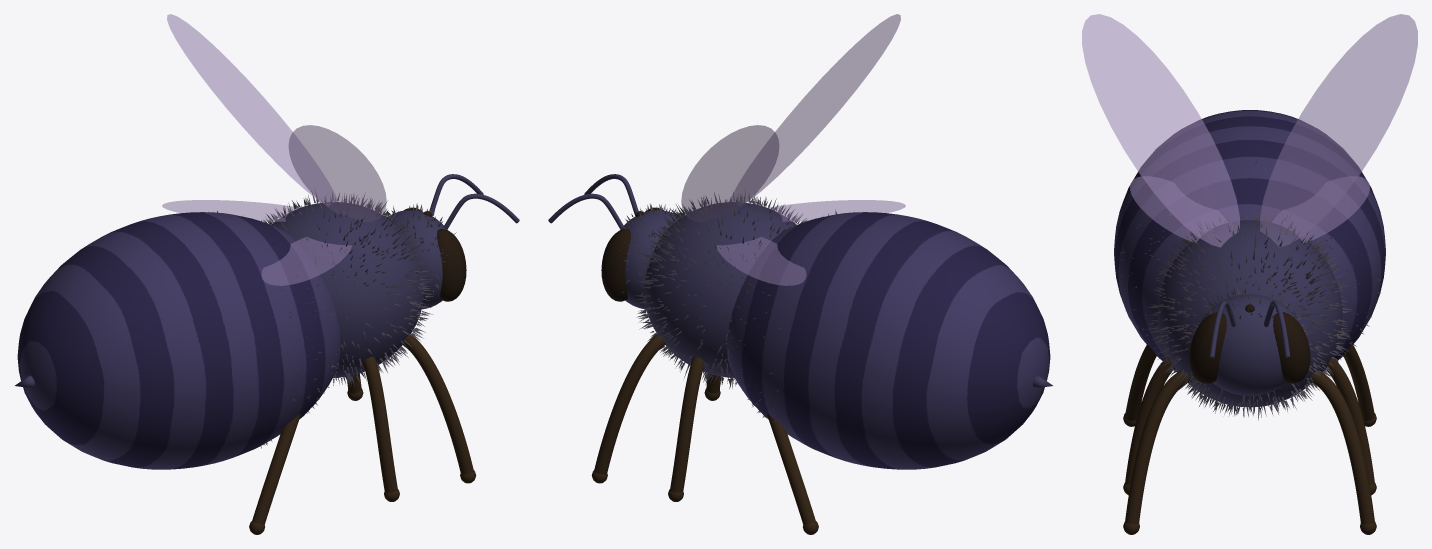
Rendered from bee-hero-xylocopa.glb.
3 views of the same model, side by side, from view 1: azimuth 30°, elevation 25°; view 2: azimuth 150°, elevation 25°; view 3: azimuth 270°, elevation 25° (orthographic). The views are drawn at different scales.
Parts seen in each view (by area): view 1: abdomen, thorax, foreWingL, foreWingR, fuzz, hindWingR, head, foreLegR, midLegR, hindWingL, compoundEyeR, hindLegR; view 2: abdomen, thorax, foreWingR, foreWingL, fuzz, hindWingL, head, foreLegL, midLegL, hindWingR, compoundEyeL, hindLegL; view 3: abdomen, foreWingL, foreWingR, thorax, fuzz, head, hindWingL, hindWingR, foreLegL, foreLegR, compoundEyeR, compoundEyeL (+6 smaller).
Boxes of the visible parts, x1,y1,x2,y2 form: abdomen: (17,212,341,469); thorax: (271,202,424,378); foreWingL: (167,14,337,206); foreWingR: (288,125,386,222); fuzz: (208,192,456,448); hindWingR: (261,237,351,285); head: (387,210,447,309); foreLegR: (402,334,473,474); midLegR: (363,356,397,492); hindWingL: (162,200,299,221); compoundEyeR: (437,229,466,301); hindLegR: (252,414,300,525); abdomen: (726,212,1050,469); thorax: (643,202,796,378); foreWingR: (732,14,900,206); foreWingL: (681,125,779,222); fuzz: (619,192,836,434); hindWingL: (716,237,806,285); head: (620,210,679,309); foreLegL: (594,334,665,474); midLegL: (670,356,704,492); hindWingR: (768,200,905,221); compoundEyeL: (601,229,630,301); hindLegL: (767,414,815,525); abdomen: (1114,110,1385,372); foreWingL: (1260,14,1417,247); foreWingR: (1082,14,1239,247); thorax: (1157,220,1342,407); fuzz: (1120,161,1381,420); head: (1199,294,1301,395); hindWingL: (1272,176,1369,243); hindWingR: (1130,176,1227,242); foreLegL: (1308,370,1374,524); foreLegR: (1125,370,1191,524); compoundEyeR: (1189,312,1226,383); compoundEyeL: (1273,312,1310,383).
Size of the model in its own units: 2.39 by 1.93 by 1.36.
6 materials, 1 textured.
